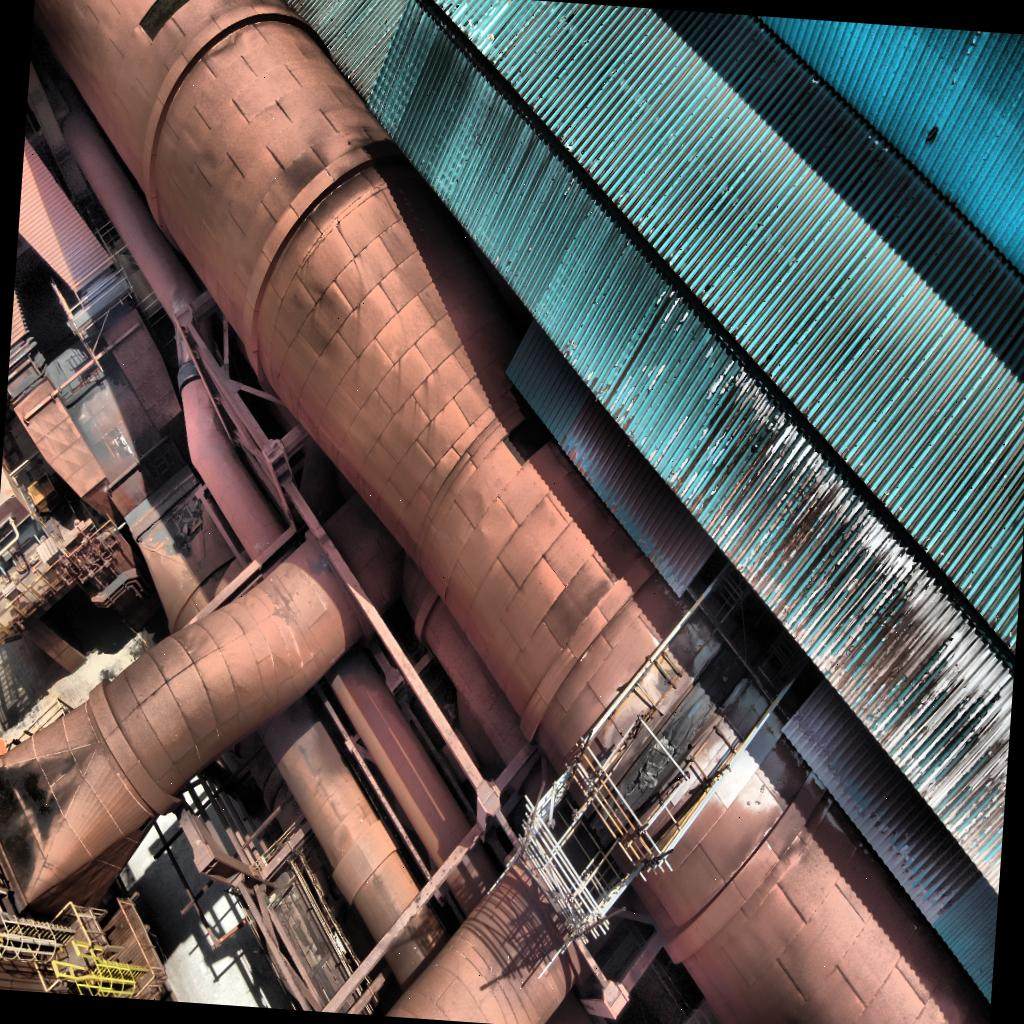Failures: (596, 714, 684, 856), (133, 0, 237, 43), (504, 381, 556, 466), (154, 502, 204, 552)
